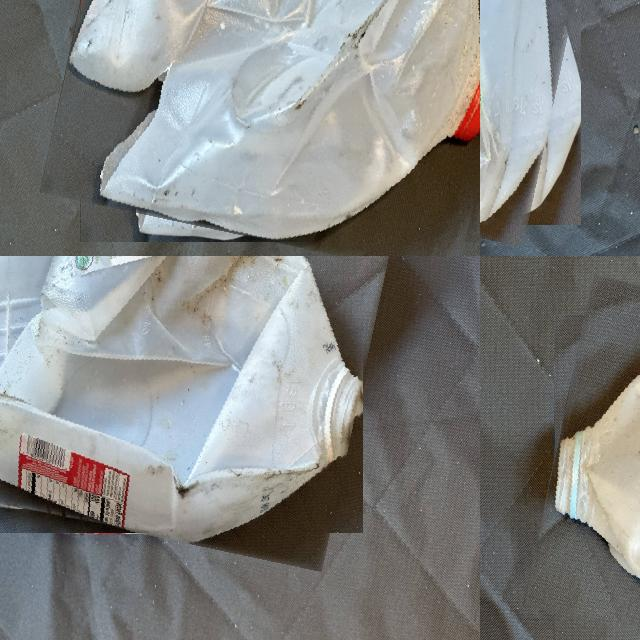milk-jug: (0, 256, 379, 552), (59, 0, 480, 256), (539, 294, 640, 640), (480, 0, 607, 236)
